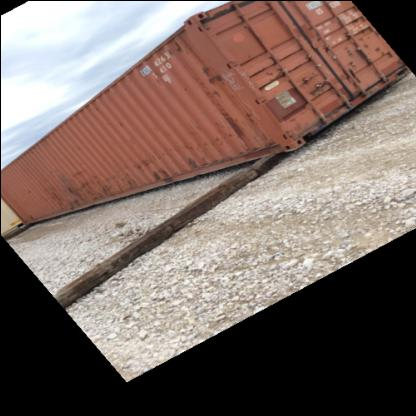Damage: (208, 97, 245, 141), (196, 60, 236, 92), (53, 177, 83, 211), (144, 154, 180, 180), (84, 174, 112, 202), (117, 168, 137, 192), (342, 86, 364, 98)
